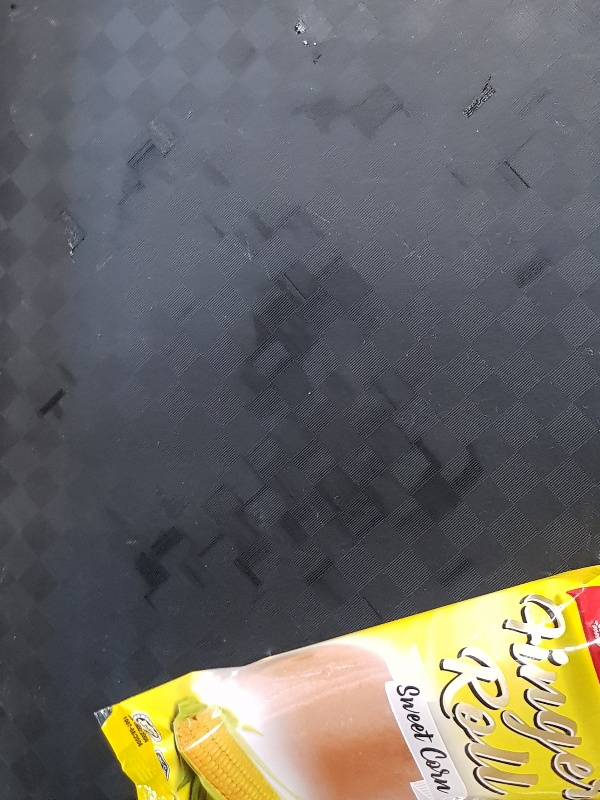Tinges Roll Sweet Corn: (90, 562, 597, 800)
